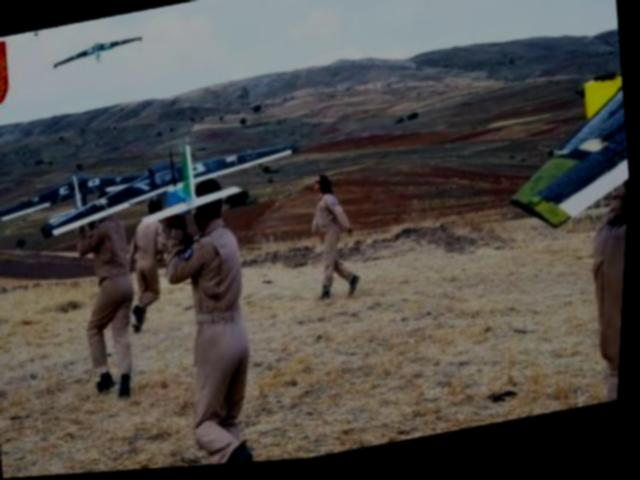uav: (35, 129, 317, 258), (50, 35, 146, 71), (9, 27, 62, 41)
